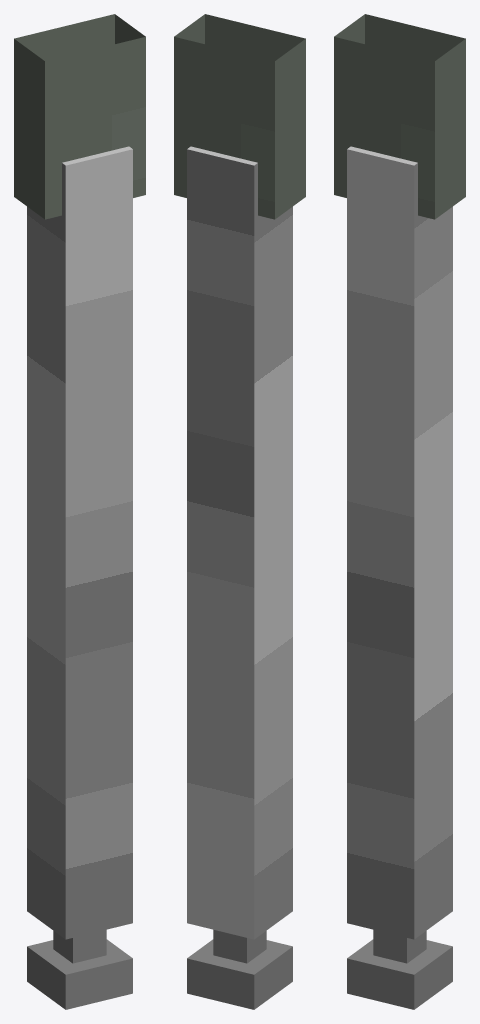
File: i_insulator.obj
3 renders of one model, left to right at view 1: azimuth 30°, elevation 25°; view 2: azimuth 150°, elevation 25°; view 3: azimuth 330°, elevation 25°, orthographic.
Parts seen in each view (by area): view 1: i_2, bracket_connection1, wire_connection1, wire_connection2; view 2: i_2, bracket_connection1, wire_connection1, wire_connection2; view 3: i_2, bracket_connection1, wire_connection1, wire_connection2.
Boxes of the visible parts, box(x1,y1,x2,y2) form: i_2: box(27, 146, 132, 939); bracket_connection1: box(14, 14, 145, 219); wire_connection1: box(27, 939, 132, 1009); wire_connection2: box(53, 929, 106, 963); i_2: box(187, 146, 292, 939); bracket_connection1: box(174, 14, 305, 219); wire_connection1: box(187, 939, 292, 1009); wire_connection2: box(213, 929, 266, 963); i_2: box(347, 146, 452, 939); bracket_connection1: box(334, 14, 465, 219); wire_connection1: box(347, 939, 452, 1009); wire_connection2: box(373, 929, 426, 963).
Size of the model in its own units: 0.0938 by 0.8438 by 0.0625.
